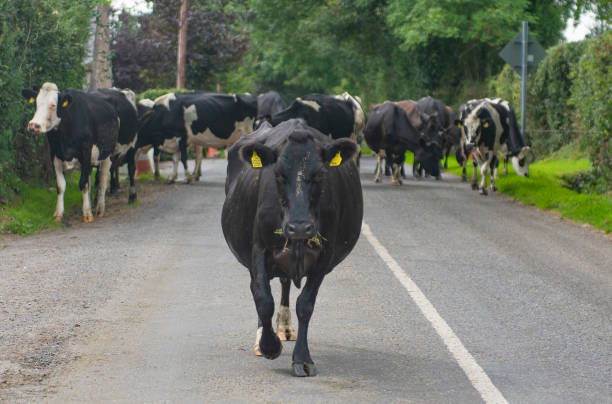inek: (222, 116, 371, 388), (28, 81, 134, 217), (142, 94, 223, 176), (265, 92, 368, 149), (456, 103, 512, 189), (370, 105, 436, 174)
